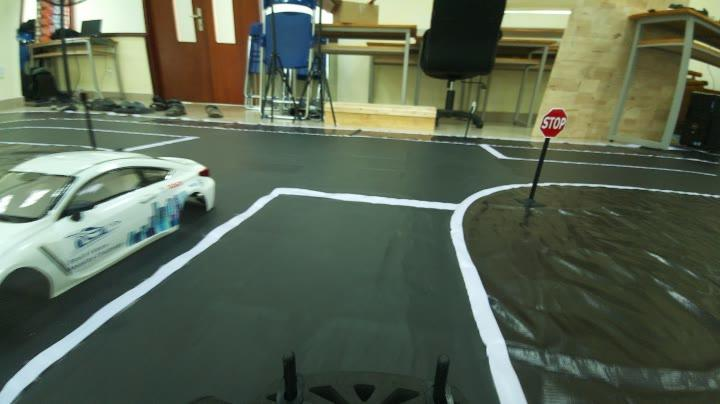car: (0, 132, 216, 275)
stop: (530, 104, 574, 142)
